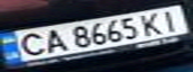5: (118, 15, 145, 40)
6: (87, 20, 109, 46), (106, 17, 127, 43)
8: (66, 23, 93, 48)
A: (36, 27, 69, 54)
C: (9, 29, 51, 58)
I: (154, 7, 187, 33)
K: (136, 10, 169, 36)
